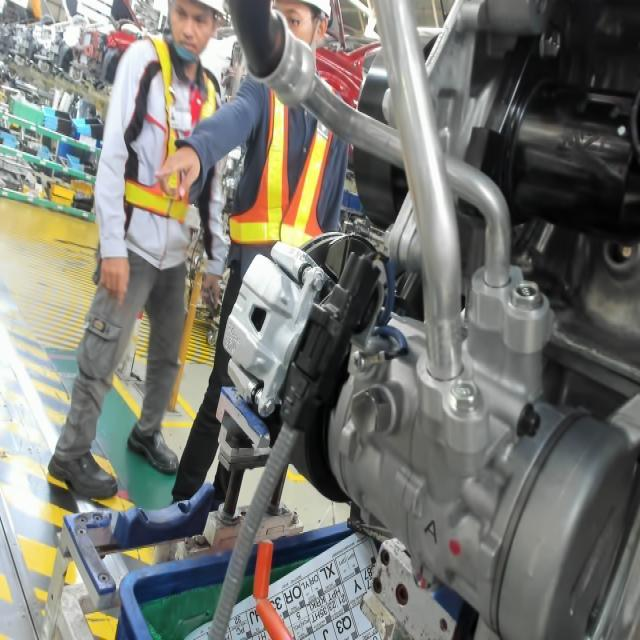Compressor-A: (418, 511, 441, 549)
